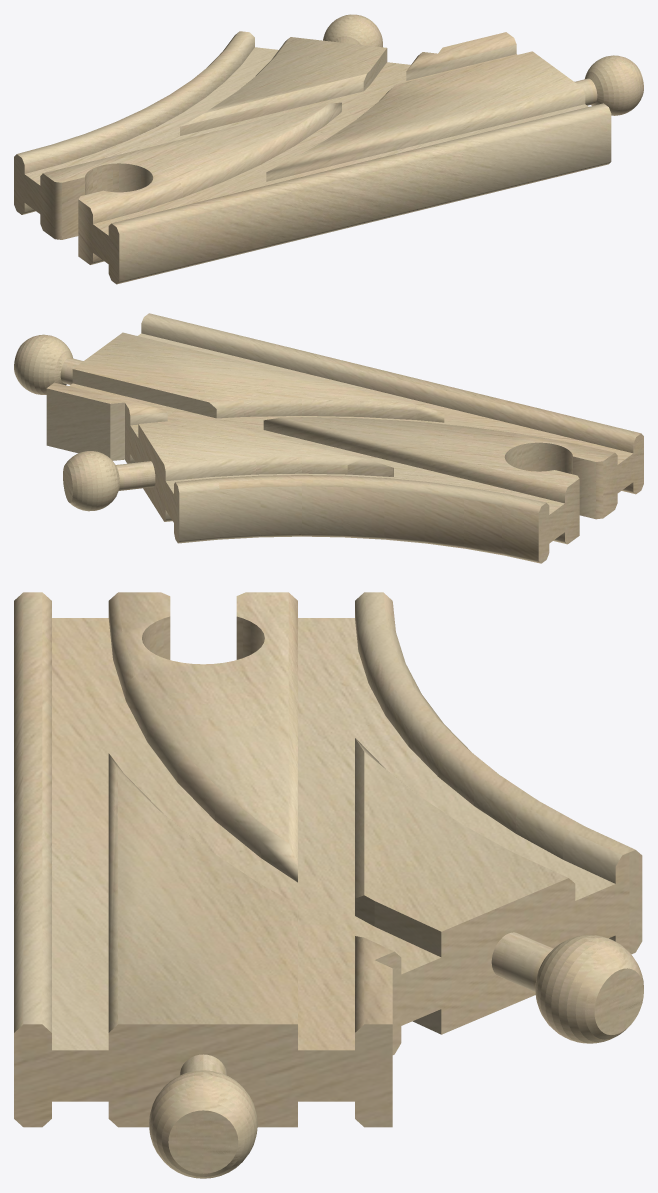
3 views of the same model, one above another, from view 1: azimuth 30°, elevation 25°; view 2: azimuth 150°, elevation 25°; view 3: azimuth 270°, elevation 25° (orthographic). The views are drawn at different scales.
Parts seen in each view (by area): view 1: SketchUp, _3d_peg (×2); view 2: SketchUp, _3d_peg (×2); view 3: SketchUp, _3d_peg (×2).
Boxes of the visible parts, x1,y1,x2,y2 form: SketchUp: (14, 31, 611, 284); _3d_peg (×2): (323, 14, 643, 115); SketchUp: (46, 313, 643, 563); _3d_peg (×2): (14, 334, 155, 511); SketchUp: (14, 592, 642, 1127); _3d_peg (×2): (149, 932, 643, 1178).
Bounding box in the file's own units: 4.9 × 2.62 × 0.4724.
